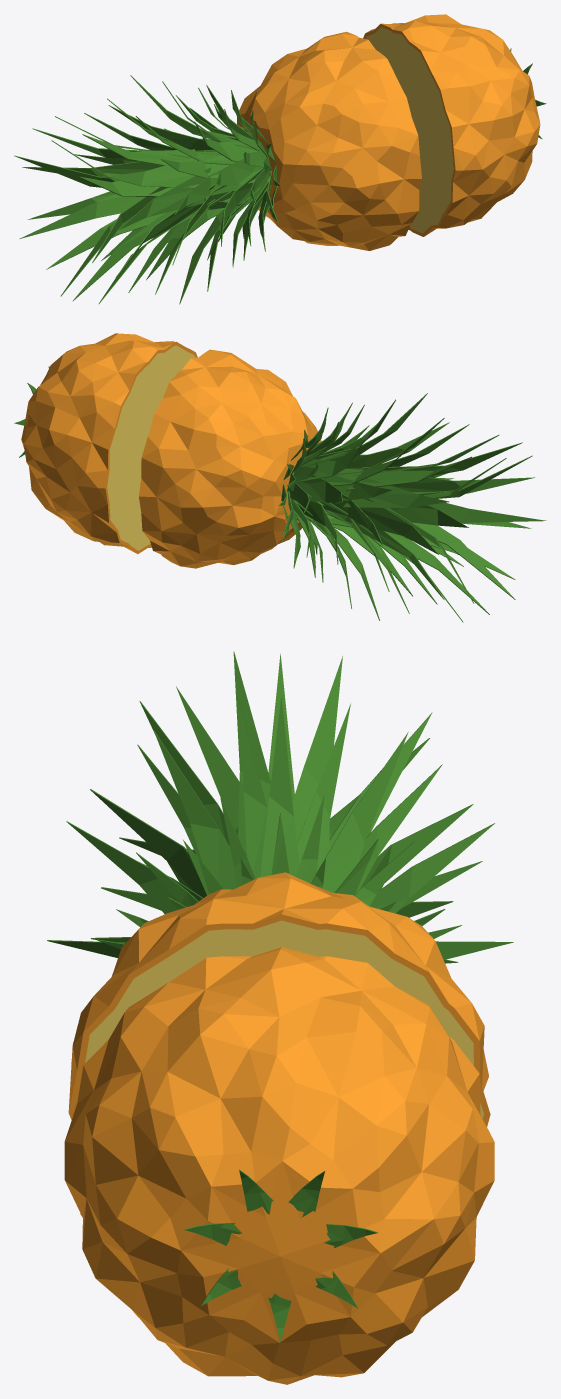
Rendered from Pineapple_Half.fbx.
3 views of the same model, one above another, from view 1: azimuth 30°, elevation 25°; view 2: azimuth 150°, elevation 25°; view 3: azimuth 270°, elevation 25° (orthographic). The views are drawn at different scales.
Parts seen in each view (by area): view 1: Pineapple_Half_02, Pineapple_Half_01; view 2: Pineapple_Half_02, Pineapple_Half_01; view 3: Pineapple_Half_01, Pineapple_Half_02.
Boxes of the visible parts, left/top/right/bottom form: Pineapple_Half_02: left=14, top=31, right=421, bottom=304; Pineapple_Half_01: left=363, top=14, right=546, bottom=236; Pineapple_Half_02: left=139, top=349, right=546, bottom=622; Pineapple_Half_01: left=14, top=333, right=197, bottom=554; Pineapple_Half_01: left=64, top=947, right=494, bottom=1384; Pineapple_Half_02: left=47, top=651, right=513, bottom=1126.
Size of the model in its own units: 0.324 by 0.1386 by 0.14.
